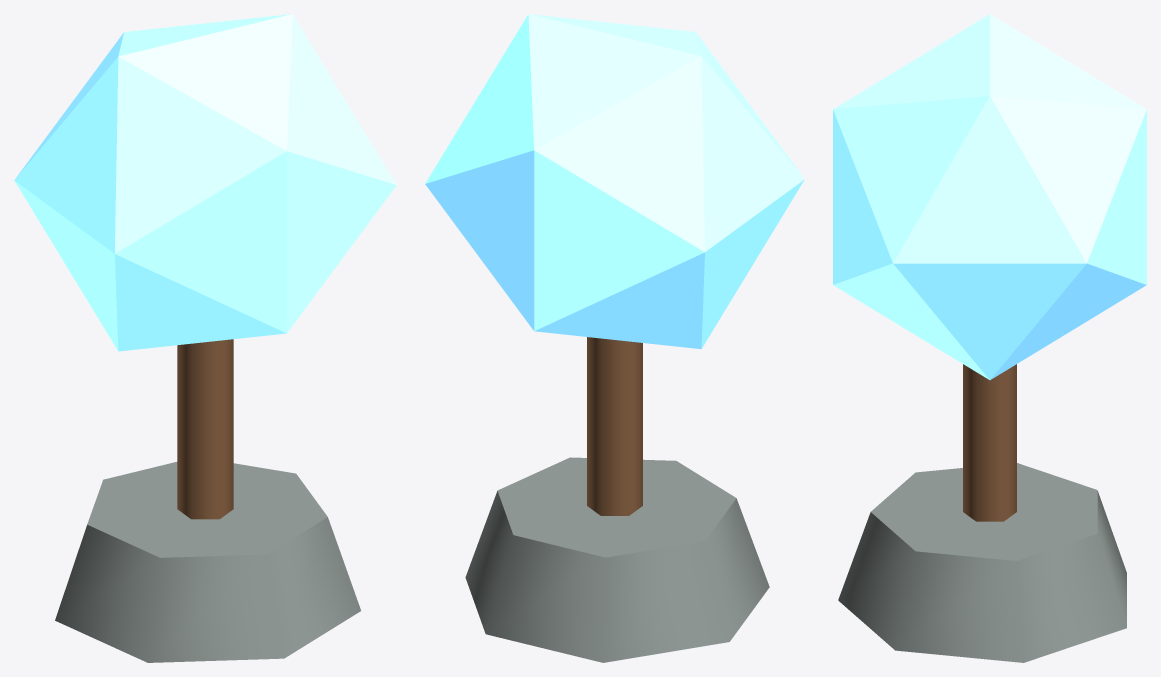
Rendered from crystalLamp.glb.
3 renders of one model, left to right at view 1: azimuth 30°, elevation 25°; view 2: azimuth 150°, elevation 25°; view 3: azimuth 270°, elevation 25°, orthographic. The views are drawn at different scales.
Size of the model in its own units: 0.5784 by 1.11 by 0.5784.
